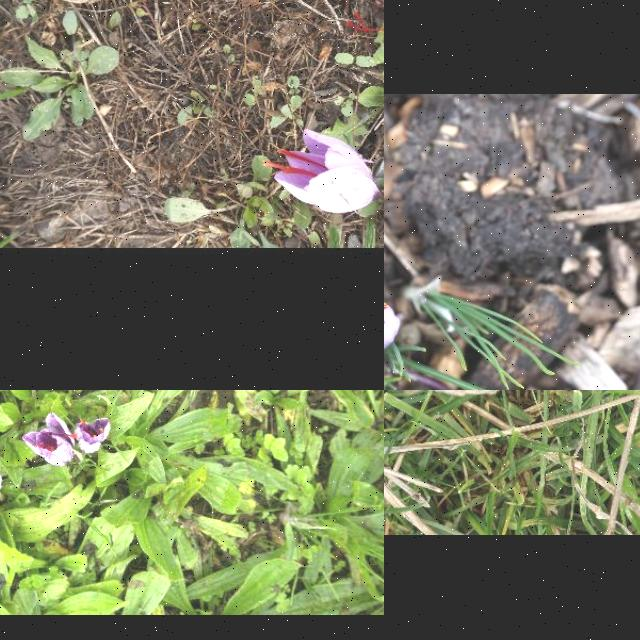flower: (262, 128, 384, 213), (23, 414, 77, 468), (76, 418, 112, 454), (384, 296, 402, 354)
